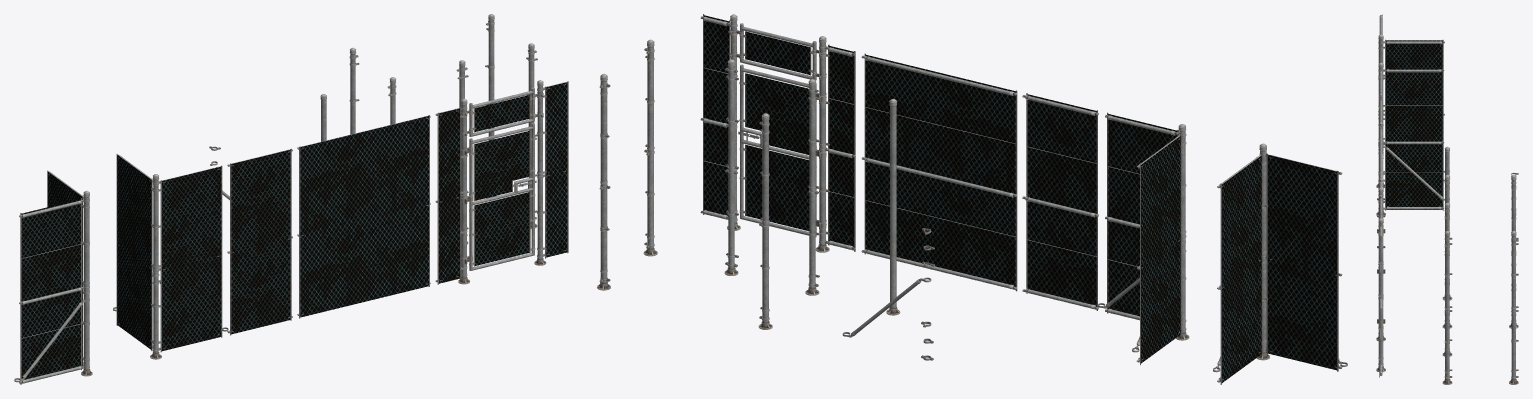
Rendered from modular_chainlink_fence_2k.gltf.
3 renders of one model, left to right at view 1: azimuth 30°, elevation 25°; view 2: azimuth 150°, elevation 25°; view 3: azimuth 270°, elevation 25°, orthographic. The views are drawn at different scales.
Parts seen in each view (by area): view 1: modular_chainlink_fence_double, modular_chainlink_fence_corner_outer, modular_chainlink_fence_door_frame, modular_chainlink_fence_corner_inner, modular_chainlink_fence, modular_chainlink_fence_door_gate, modular_chainlink_fence_start_01_corner_02, modular_chainlink_fence_start_01_corner_01, modular_chainlink_fence_end_02; view 2: modular_chainlink_fence_double, modular_chainlink_fence_corner_inner, modular_chainlink_fence_corner_outer, modular_chainlink_fence_door_frame, modular_chainlink_fence, modular_chainlink_fence_door_gate, modular_chainlink_fence_start_01_corner_02, modular_chainlink_post_middle, modular_chainlink_fence_end_01, modular_chainlink_fence_start_01_corner_01, modular_chainlink_fence_end_02, modular_chainlink_fence_post; view 3: modular_chainlink_fence_corner_outer, modular_chainlink_fence_corner_inner, modular_chainlink_fence_door_frame, modular_chainlink_fence_start_01_corner_01, modular_chainlink_fence_start_01_corner_02, modular_chainlink_fence_end_02, modular_chainlink_fence_double, modular_chainlink_fence_end_01, modular_chainlink_post_middle, modular_chainlink_fence_post.
Part boxes in pixels (x1,y1,x2,y2): modular_chainlink_fence_double: (297, 115, 430, 318); modular_chainlink_fence_corner_outer: (113, 154, 228, 359); modular_chainlink_fence_door_frame: (435, 80, 568, 284); modular_chainlink_fence_corner_inner: (14, 170, 92, 384); modular_chainlink_fence: (227, 148, 292, 335); modular_chainlink_fence_door_gate: (469, 123, 535, 270); modular_chainlink_fence_start_01_corner_02: (485, 14, 496, 198); modular_chainlink_fence_start_01_corner_01: (526, 43, 537, 228); modular_chainlink_fence_end_02: (349, 47, 359, 134); modular_chainlink_fence_double: (861, 53, 1017, 291); modular_chainlink_fence_corner_inner: (1213, 143, 1347, 384); modular_chainlink_fence_corner_outer: (1097, 112, 1189, 365); modular_chainlink_fence_door_frame: (700, 14, 855, 252); modular_chainlink_fence: (1022, 93, 1098, 310); modular_chainlink_fence_door_gate: (739, 64, 816, 236); modular_chainlink_fence_start_01_corner_02: (597, 74, 610, 290); modular_chainlink_post_middle: (724, 59, 738, 275); modular_chainlink_fence_end_01: (805, 79, 819, 295); modular_chainlink_fence_start_01_corner_01: (643, 39, 657, 256); modular_chainlink_fence_end_02: (758, 113, 772, 329); modular_chainlink_fence_post: (886, 98, 900, 315); modular_chainlink_fence_corner_outer: (1376, 62, 1449, 233); modular_chainlink_fence_corner_inner: (1376, 14, 1449, 188); modular_chainlink_fence_door_frame: (1376, 182, 1385, 377); modular_chainlink_fence_start_01_corner_01: (1442, 231, 1452, 384); modular_chainlink_fence_start_01_corner_02: (1509, 231, 1518, 384); modular_chainlink_fence_end_02: (1509, 175, 1518, 328); modular_chainlink_fence_double: (1379, 126, 1382, 183); modular_chainlink_fence_end_01: (1442, 175, 1452, 328); modular_chainlink_post_middle: (1442, 203, 1452, 356); modular_chainlink_fence_post: (1442, 146, 1452, 300).
Size of the model in its own units: 8.12 by 2.52 by 2.15.
2 materials, 2 textured.
